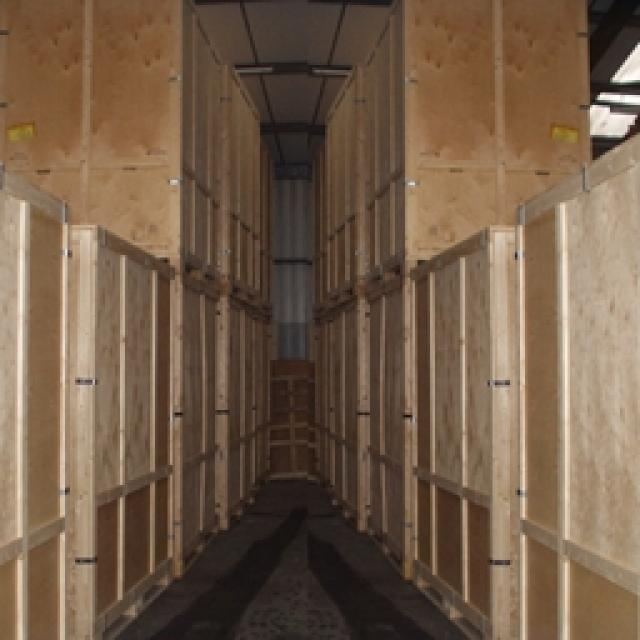box: (511, 138, 640, 640), (0, 0, 222, 275), (55, 225, 195, 640), (375, 0, 583, 270), (404, 228, 520, 628), (0, 166, 76, 639)
